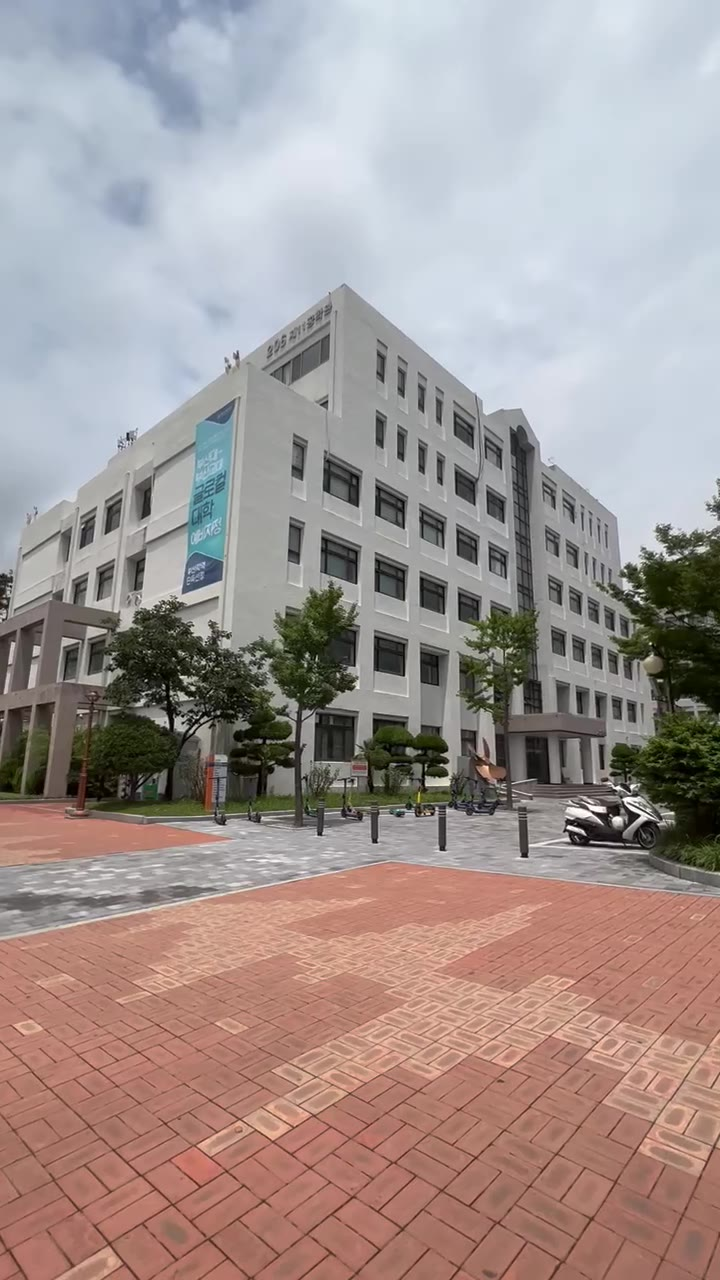low: (250, 298, 604, 592)
